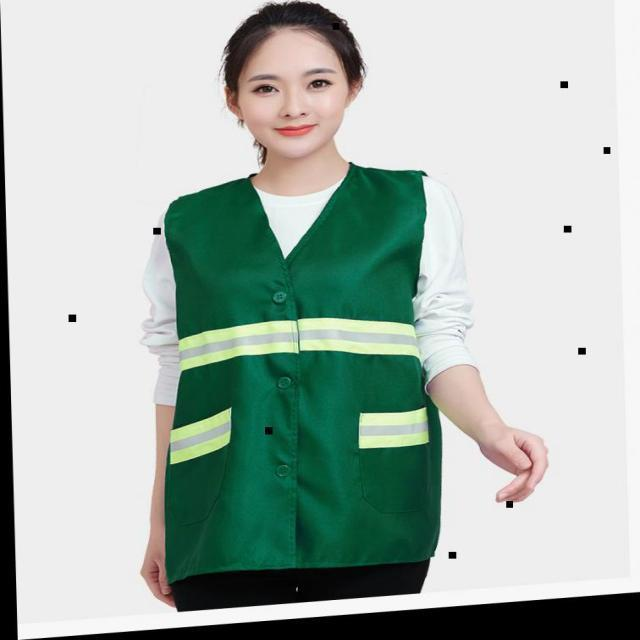safety_helmet: (151, 169, 451, 578)
